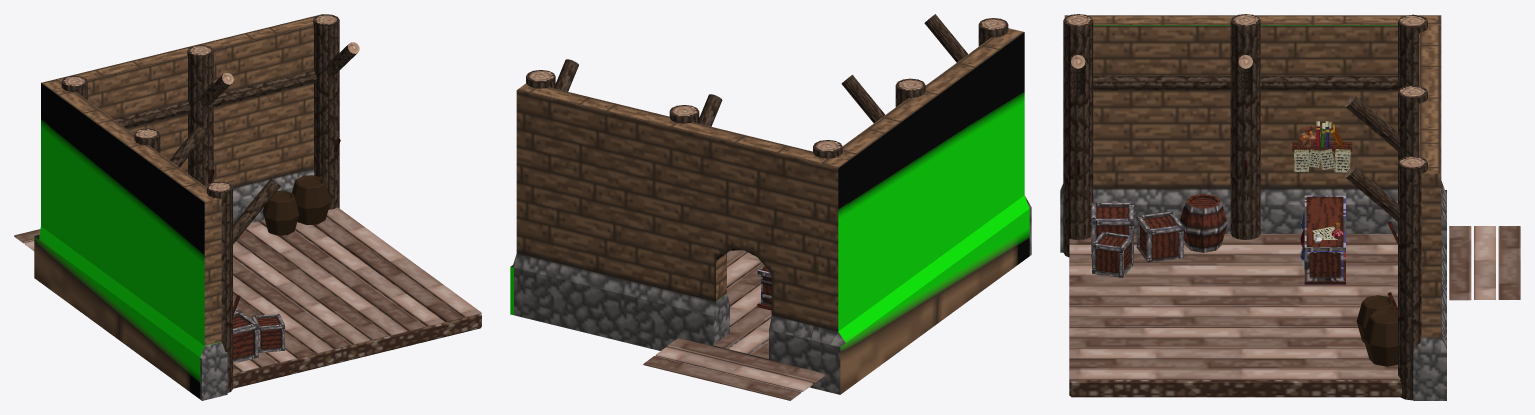
Rendered from ShopV2.fbx.
3 views of the same model, side by side, from view 1: azimuth 30°, elevation 25°; view 2: azimuth 150°, elevation 25°; view 3: azimuth 270°, elevation 25° (orthographic). The views are drawn at different scales.
Parts seen in each view (by area): view 1: Cube.001, Plane.007, Cylinder.003, Cylinder.004; view 2: Cube.001, Cube.008, Plane.007; view 3: Cube.001, Plane.007, Cube.008, Cylinder.003, Cylinder.004.
Part boxes in pixels (x1,y1,x2,y2): Cube.001: [34, 14, 481, 400]; Plane.007: [208, 138, 340, 363]; Cylinder.003: [292, 175, 330, 224]; Cylinder.004: [262, 190, 299, 235]; Cube.001: [510, 14, 1031, 394]; Cube.008: [643, 338, 825, 400]; Plane.007: [757, 265, 771, 310]; Cube.001: [1060, 14, 1446, 400]; Plane.007: [1076, 121, 1398, 316]; Cube.008: [1449, 226, 1520, 300]; Cylinder.003: [1363, 308, 1397, 366]; Cylinder.004: [1356, 295, 1394, 343].
Size of the model in its own units: 224 by 149 by 268.
Materials: 4 (2 with a texture image).
